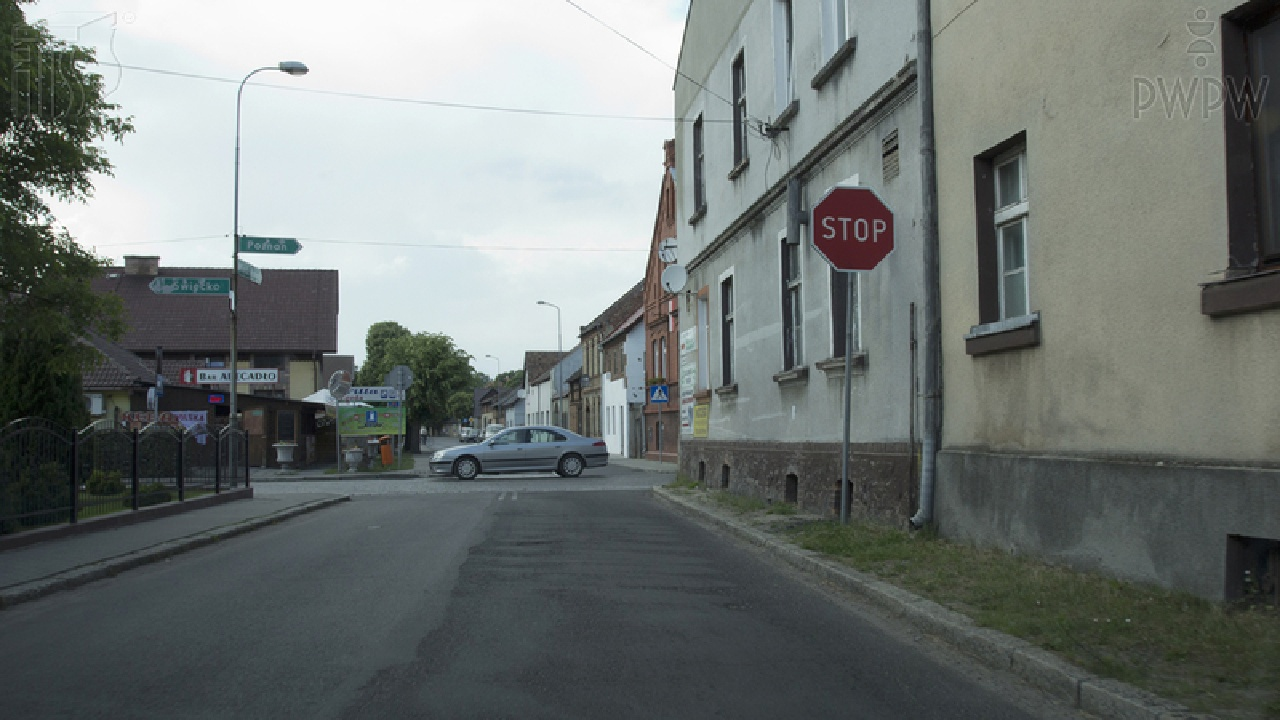B20: (812, 186, 895, 273)
